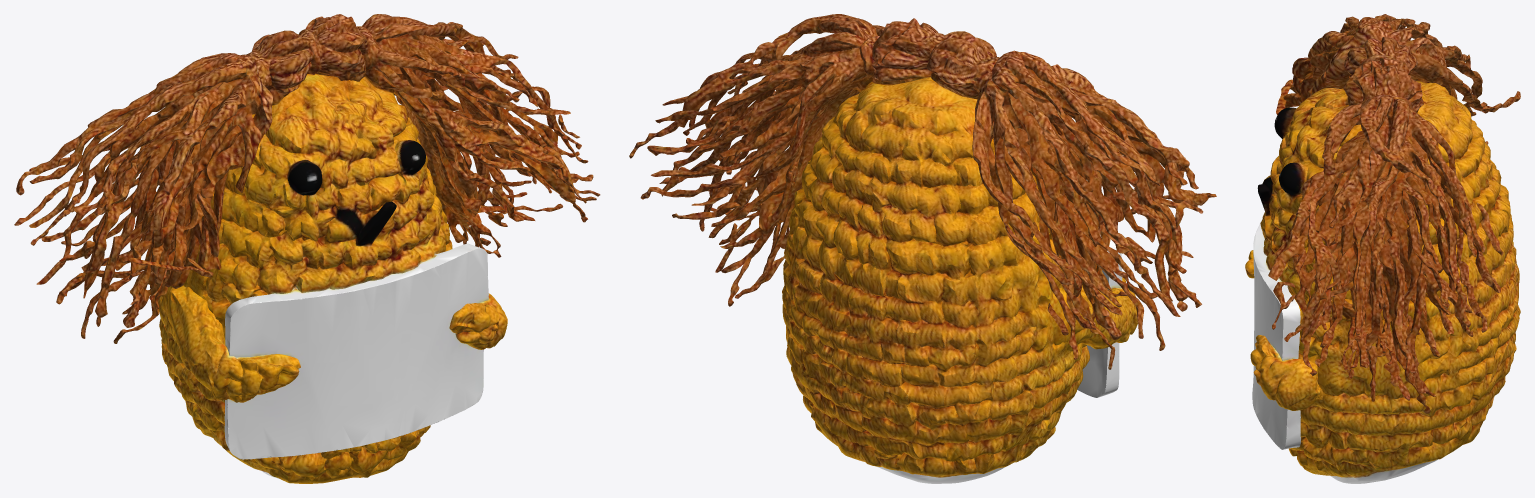
File: leo.glb
The picture shows the model from 3 angles, left to right: view 1: azimuth 30°, elevation 25°; view 2: azimuth 150°, elevation 25°; view 3: azimuth 270°, elevation 25°; orthographic projection. The views are drawn at different scales.
Visible parts, largest first — view 1: body, trim, card, handL, handR; view 2: trim, body, handL, card; view 3: body, trim, card, handR.
Boxes of the visible parts, left/top/right/bottom form: body: left=14, top=14, right=600, bottom=343; trim: left=158, top=74, right=452, bottom=483; card: left=224, top=243, right=488, bottom=459; handL: left=167, top=285, right=300, bottom=402; handR: left=449, top=293, right=507, bottom=349; trim: left=782, top=77, right=1089, bottom=483; body: left=629, top=14, right=1216, bottom=369; handL: left=1053, top=277, right=1137, bottom=351; card: left=1077, top=235, right=1122, bottom=397; body: left=1268, top=14, right=1520, bottom=413; trim: left=1257, top=81, right=1520, bottom=483; card: left=1252, top=219, right=1300, bottom=449; handR: left=1250, top=335, right=1322, bottom=410.
Bounding box in the file's own units: 1.89 × 1.53 × 0.9194.
Materials: 5 (5 with a texture image).
